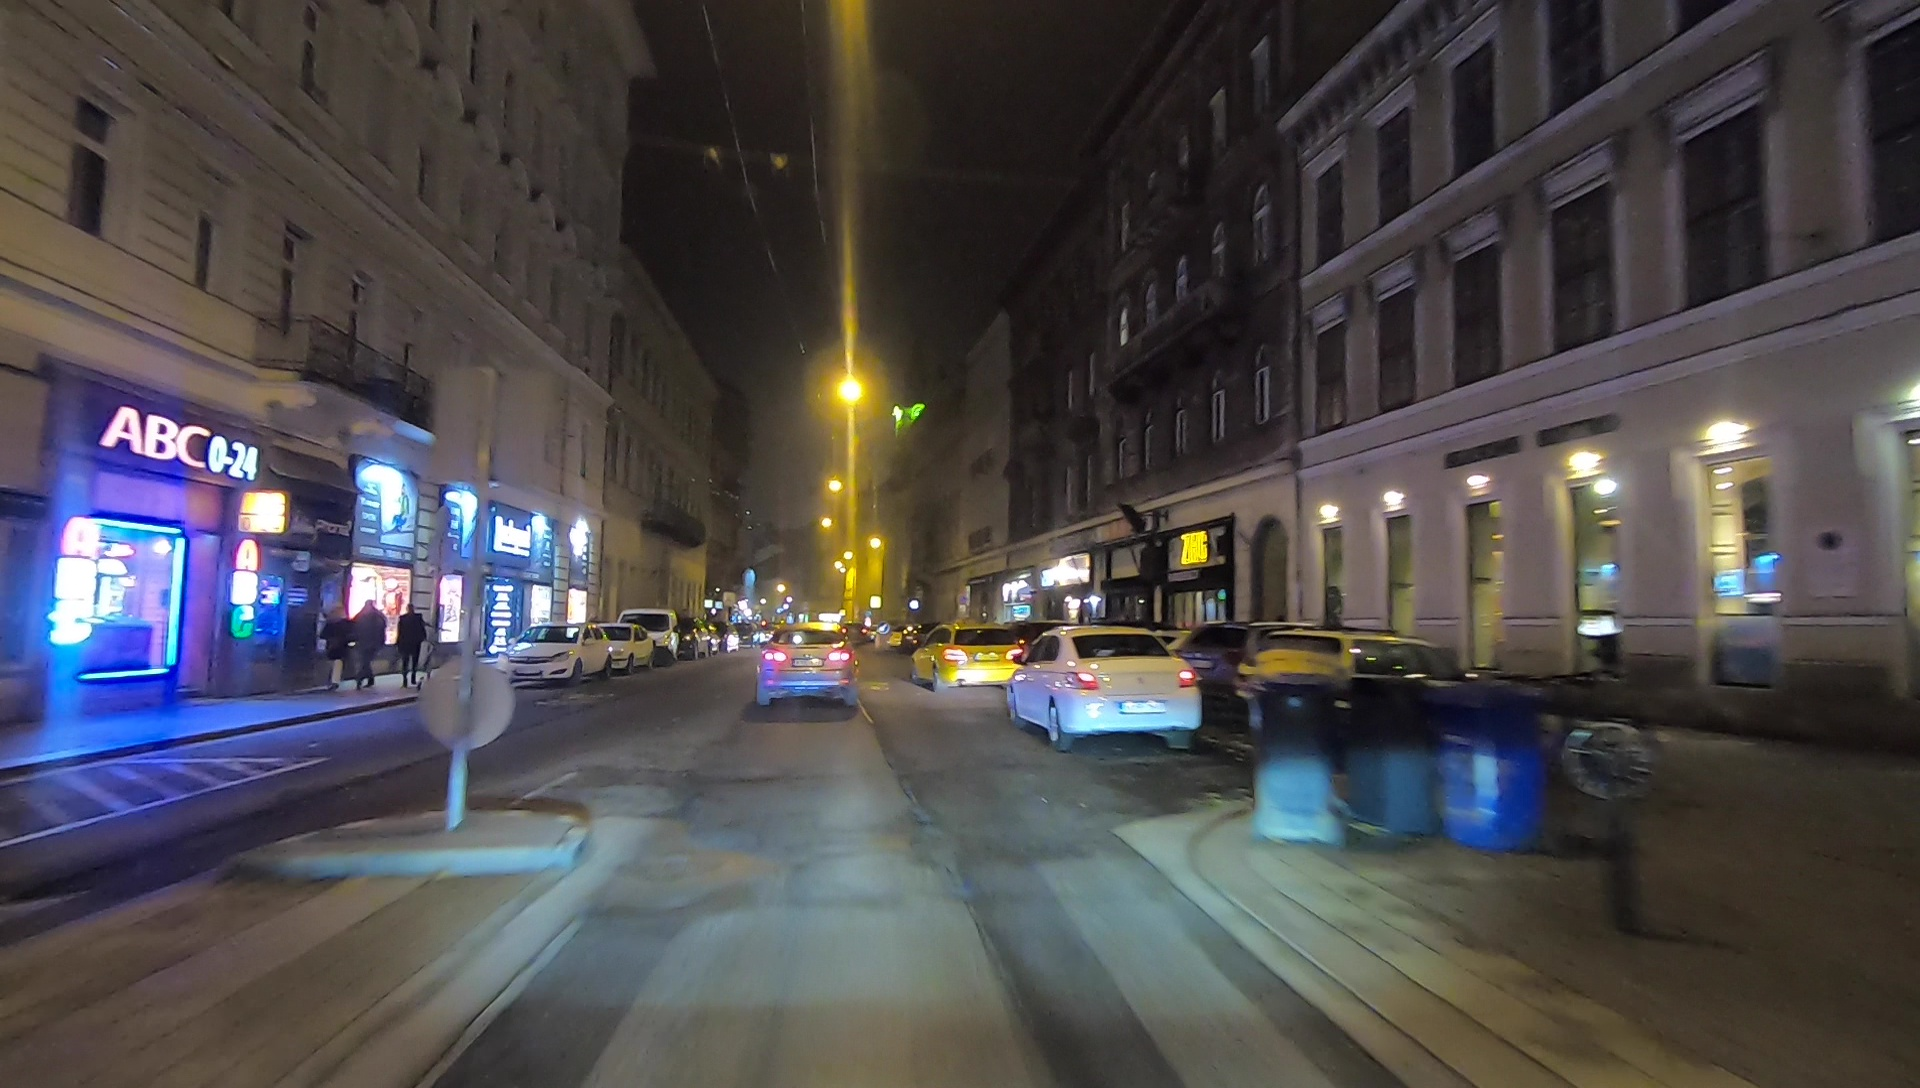person: (397, 599, 428, 689), (358, 604, 388, 682), (323, 604, 347, 686)
